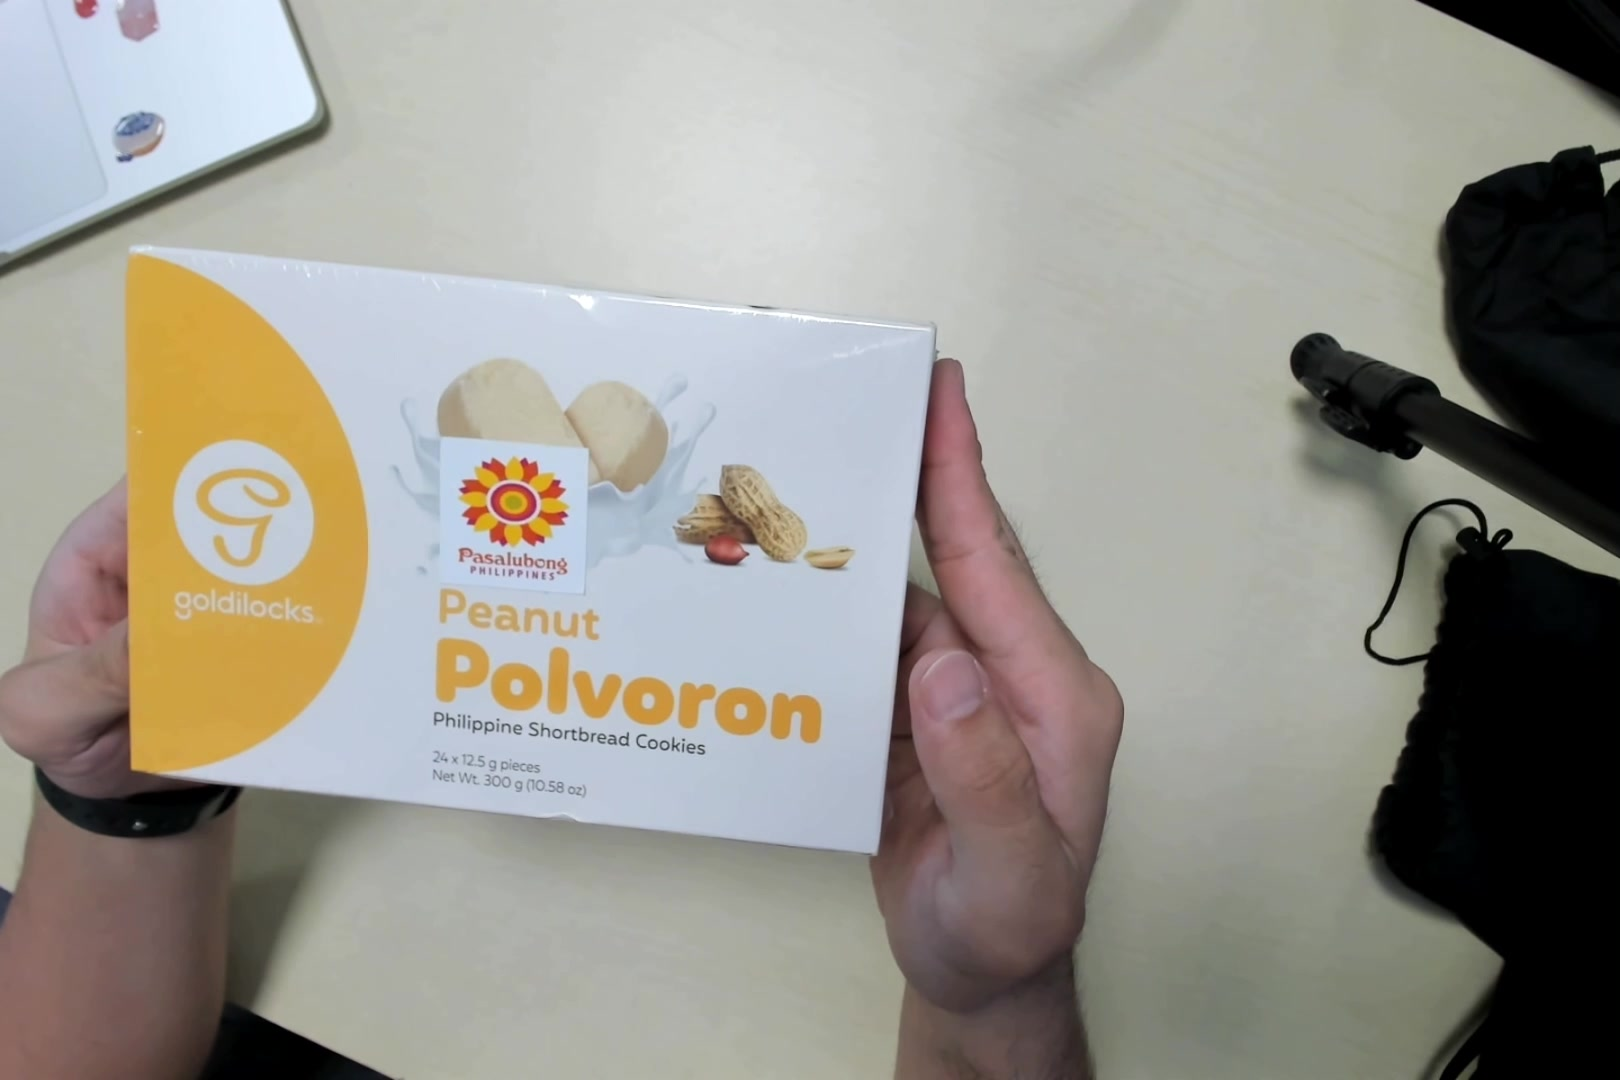SweetsChocolatesOthers_300-399g_Halal_NonHealthy: (125, 246, 928, 851)
